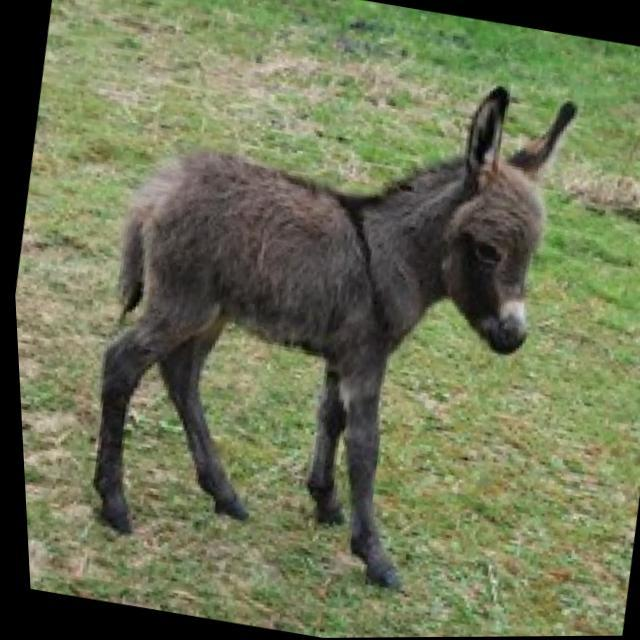Donkey: (51, 20, 598, 612)
